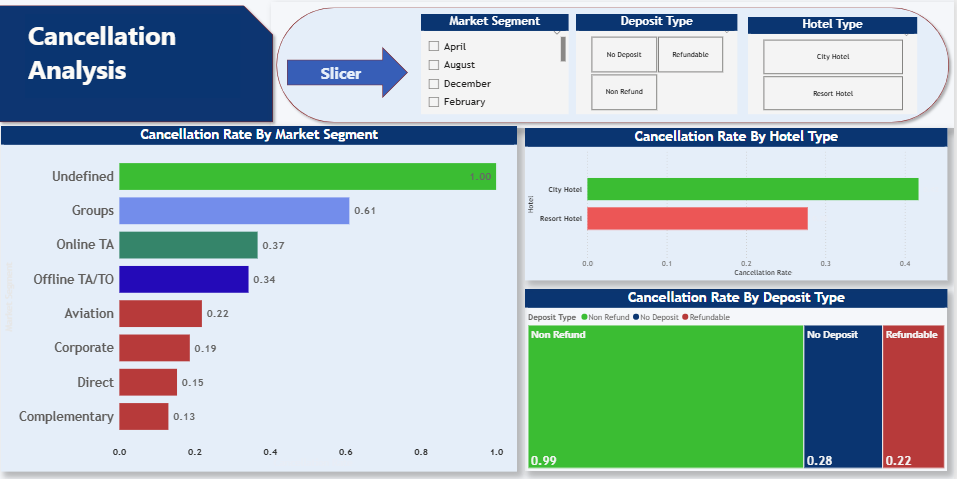

The page's visual inventory and layout, read from the dashboard file:
{"tool":"powerbi","page":{"name":"Cancellation Report","canvas":[1600,800],"ordinal":1},"visuals":[{"type":"shape","box":[0,0,474,212.6],"z":0},{"type":"textbox","box":[52,23.6,359.1,140.2],"z":1000},{"type":"shape","title":"Market","box":[461.1,3.4,1138.9,209.9],"z":2000},{"type":"slicer","title":"Market Segment","fields":{"Values":["hotel_bookings.Arrival Date Month"]},"box":[711.8,23.6,245.7,166.9],"z":3000},{"type":"barChart","title":"Cancellation  Rate By Market Segment","fields":{"Category":["hotel_bookings.Market Segment"],"Y":["hotel_bookings.Cancellation Rate"]},"box":[11,209.4,859.8,576.4],"z":4000},{"type":"treemap","title":"Cancellation  Rate By Deposit Type","fields":{"Values":["hotel_bookings.Cancellation Rate"],"Group":["hotel_bookings.Deposit Type"]},"box":[885,481.9,703.9,303.9],"z":5000},{"type":"clusteredBarChart","title":"Cancellation  Rate By Hotel Type","fields":{"Category":["hotel_bookings.Hotel"],"Y":["hotel_bookings.Cancellation Rate"]},"box":[885,212.6,703.9,253.5],"z":6000},{"type":"slicer","title":"Hotel Type","fields":{"Values":["hotel_bookings.Hotel"]},"box":[1256.7,28.3,281.9,162.2],"z":7000},{"type":"slicer","title":"Deposit Type","fields":{"Values":["hotel_bookings.Deposit Type"]},"box":[970.1,23.6,269.3,166.9],"z":8000},{"type":"shape","box":[488.2,78.7,201.6,85],"z":9000}]}

Visuals, with their boxes in screenshot pixels (x1, y1, x2, y2), scaled from the page's 1600x800 canvas onto the 957x479 screenshot:
shape: bbox=[0, 0, 284, 127]
textbox: bbox=[31, 14, 246, 98]
"Market" shape: bbox=[276, 2, 956, 128]
"Market Segment" slicer: bbox=[426, 14, 573, 114]
"Cancellation  Rate By Market Segment" barChart: bbox=[7, 125, 521, 470]
"Cancellation  Rate By Deposit Type" treemap: bbox=[529, 289, 950, 470]
"Cancellation  Rate By Hotel Type" clusteredBarChart: bbox=[529, 127, 950, 279]
"Hotel Type" slicer: bbox=[752, 17, 920, 114]
"Deposit Type" slicer: bbox=[580, 14, 741, 114]
shape: bbox=[292, 47, 413, 98]
